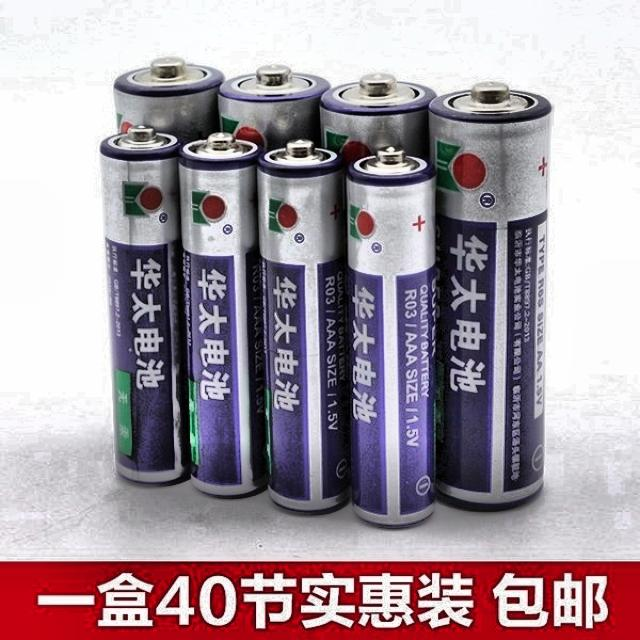Non-Valuable Waste - Batteries: (429, 82, 551, 509), (258, 140, 350, 512), (346, 148, 435, 526), (101, 125, 189, 483), (180, 132, 266, 497), (320, 74, 436, 163), (220, 65, 330, 150), (115, 58, 225, 142)
